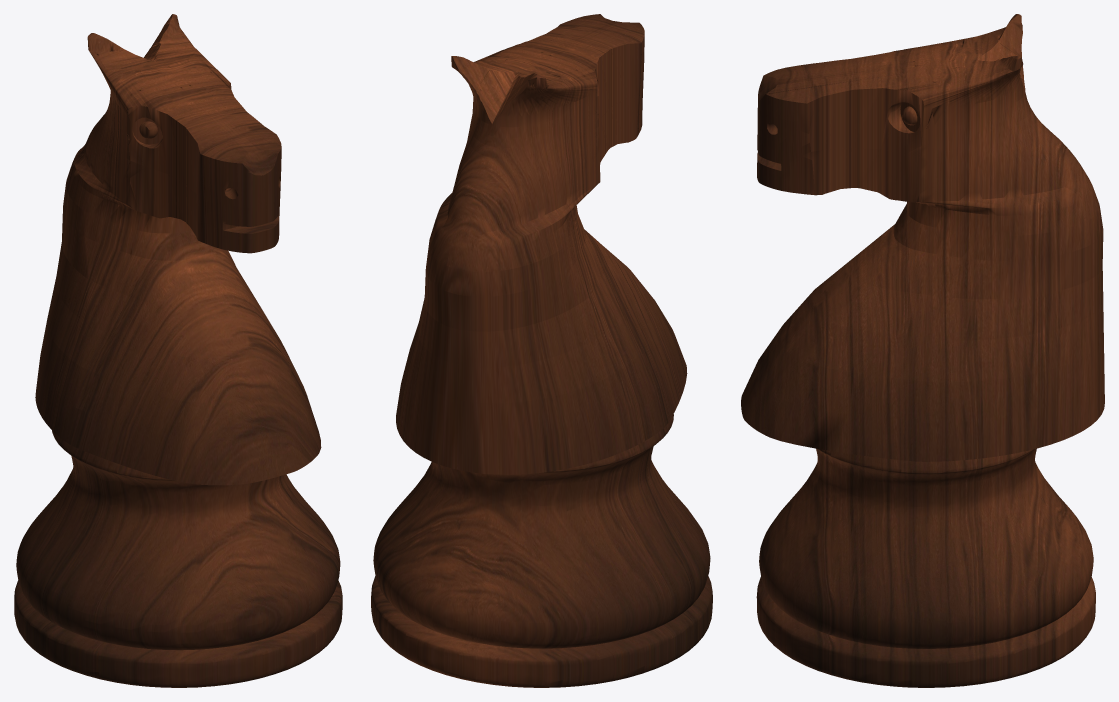
Rendered from preto-cavalo.obj.
The picture shows the model from 3 angles, left to right: view 1: azimuth 30°, elevation 25°; view 2: azimuth 150°, elevation 25°; view 3: azimuth 270°, elevation 25°; orthographic projection. The views are drawn at different scales.
Parts seen in each view (by area): view 1: Object02; view 2: Object02; view 3: Object02.
Part boxes in pixels (x1=…): Object02: x1=14, y1=14, x2=342, y2=687; Object02: x1=371, y1=14, x2=712, y2=687; Object02: x1=741, y1=14, x2=1104, y2=687.
Size of the model in its own units: 173 by 329 by 186.
Materials: 1 (1 with a texture image).
